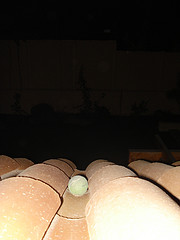tennis ball: (66, 174, 90, 196)
